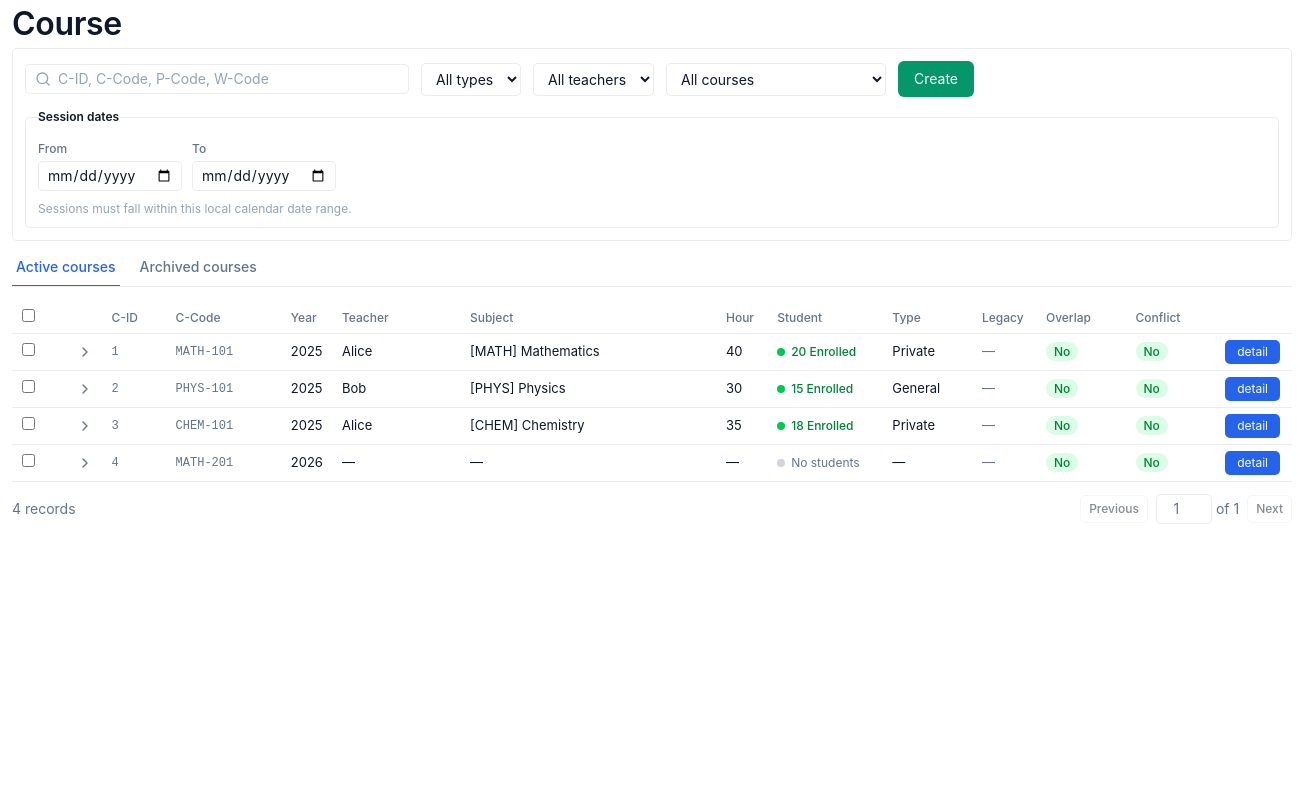
Test: Courses bulk editor › shows bulk action bar when courses are selected
expect the text "MATH-101" is shown: met, box [176,344,233,360]
expect the text "selected" is not shown: met
Click the checkbox named "Select MATH-101". click: x=28, y=350
box: [22,343,35,356]
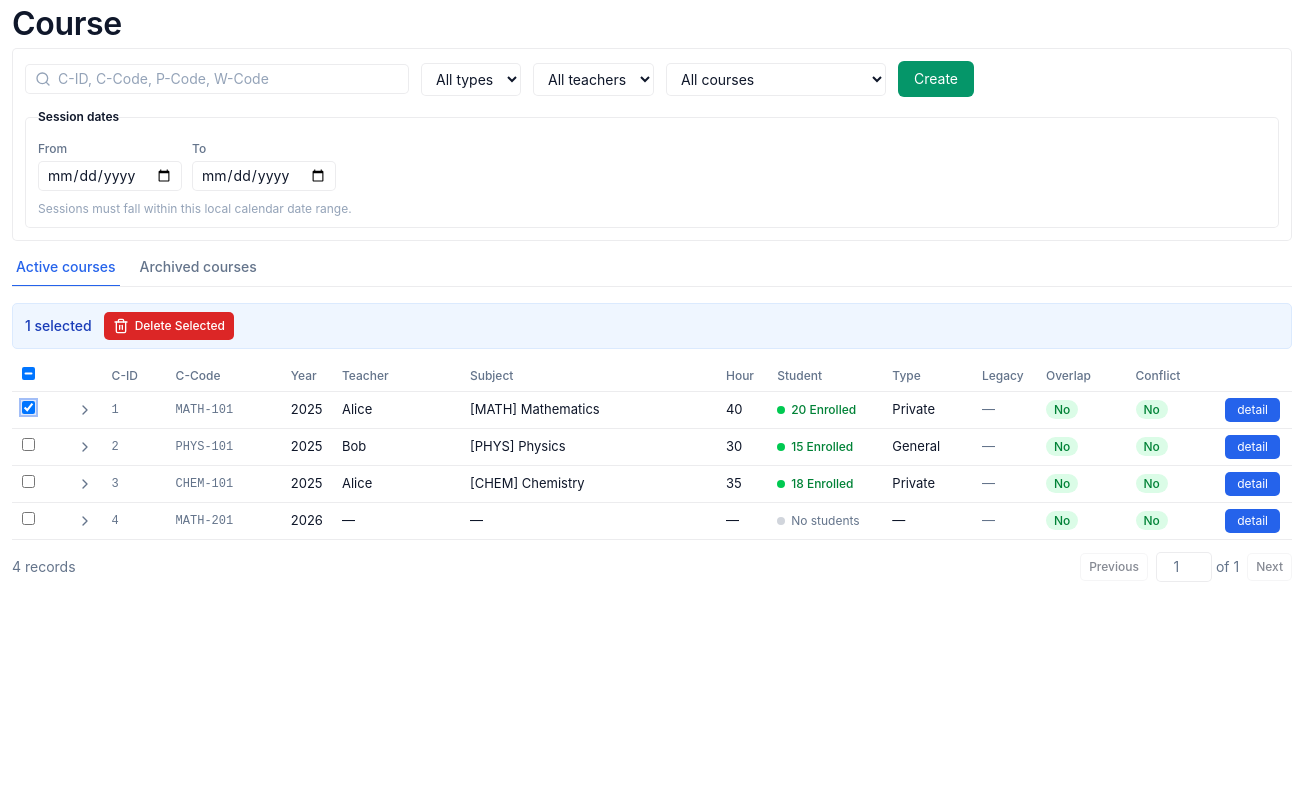
expect the text "1 selected" is shown: met, box [25,316,92,336]
expect the button "Delete Selected" is shown: met, box [104,312,234,340]
